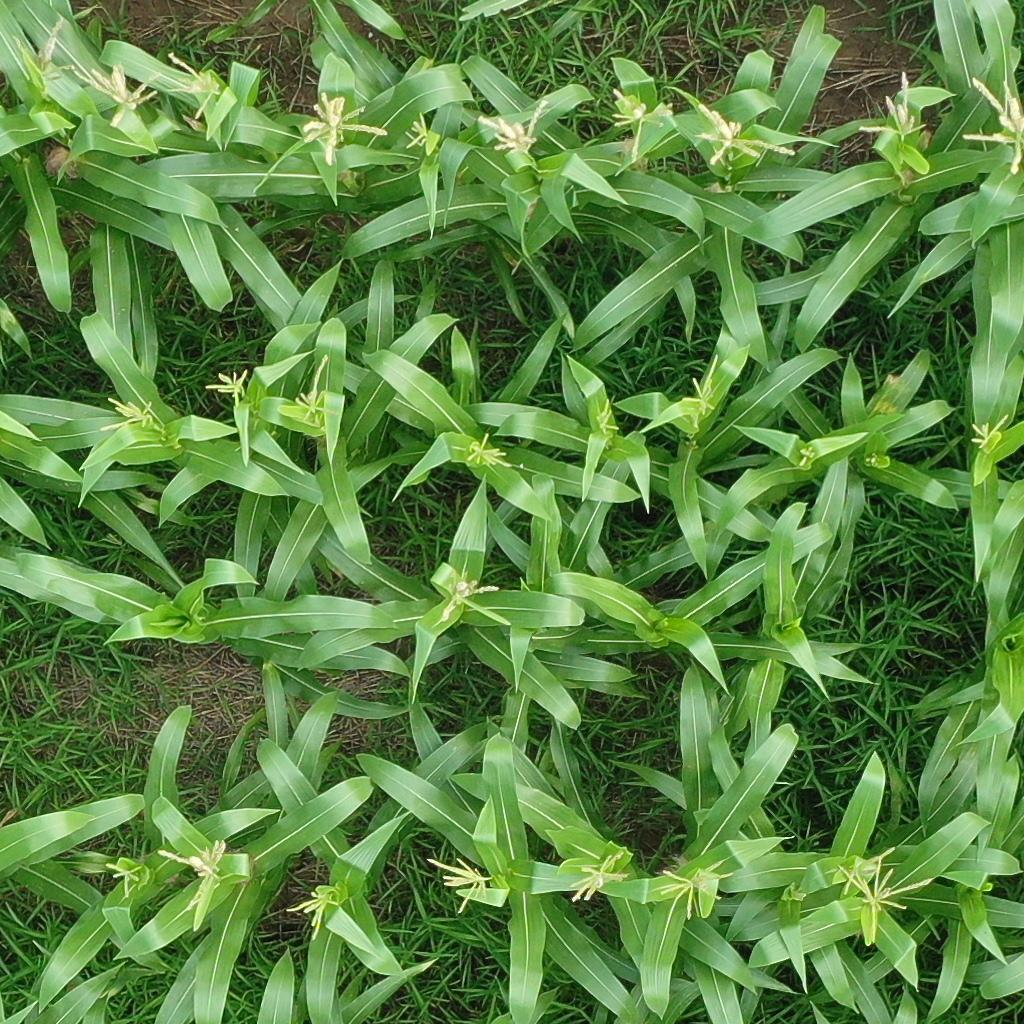Tassel: (688, 97, 790, 173), (832, 864, 932, 940), (953, 73, 1024, 174), (65, 59, 165, 129), (300, 88, 387, 160), (157, 837, 234, 916), (605, 83, 674, 169), (854, 68, 925, 139), (422, 852, 499, 915), (654, 863, 735, 921), (162, 48, 226, 118), (434, 566, 500, 628), (475, 97, 547, 152), (290, 353, 345, 425), (566, 851, 632, 905), (277, 887, 338, 941), (837, 843, 895, 896), (21, 16, 71, 74), (683, 351, 721, 423), (98, 393, 157, 434), (465, 429, 517, 473), (101, 852, 149, 898), (202, 368, 252, 408), (968, 413, 1008, 448), (590, 393, 619, 440), (405, 113, 436, 151), (797, 443, 818, 469), (866, 450, 883, 467)
